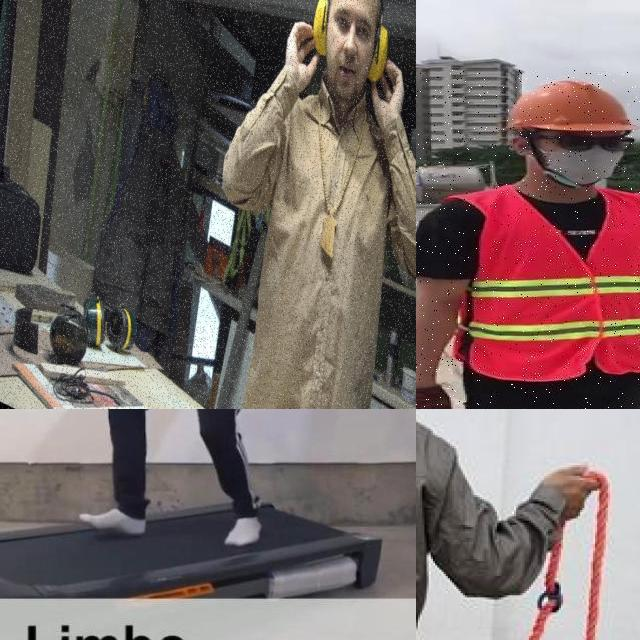Ear-protection: (306, 0, 400, 123)
No_Glasses: (328, 0, 373, 57)
head_helmet: (502, 77, 640, 138)
person: (416, 69, 640, 409), (64, 409, 317, 546)
vest: (462, 190, 640, 380)
